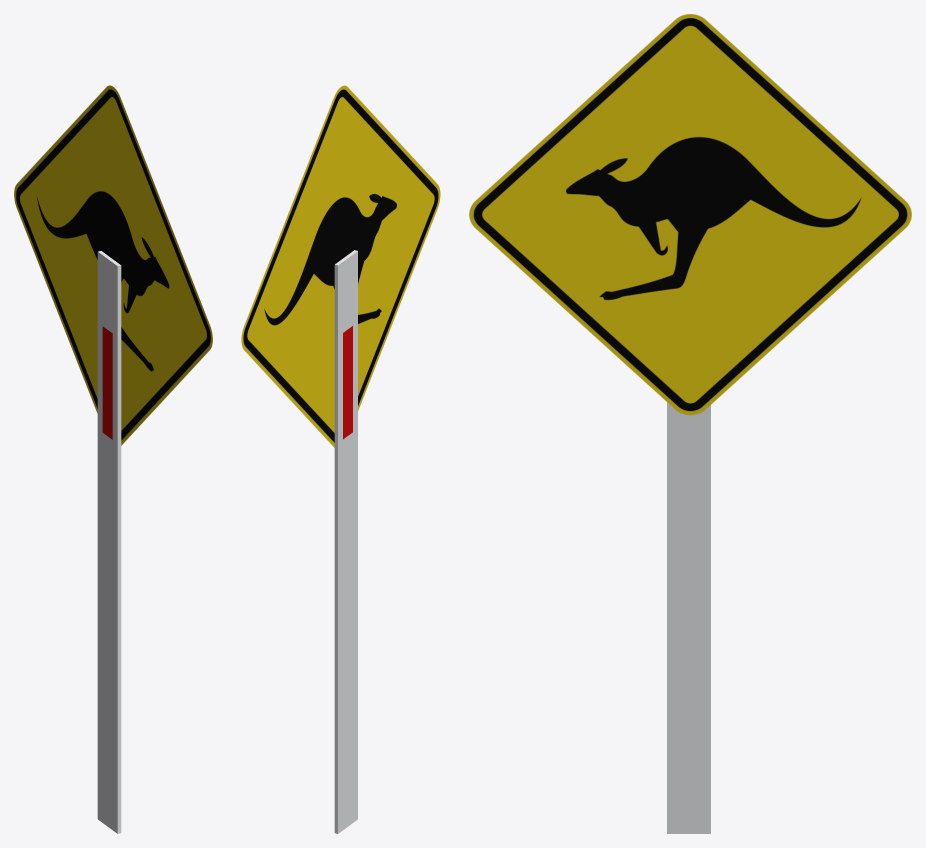
File: newsign.glb
The picture shows the model from 3 angles, left to right: view 1: azimuth 30°, elevation 25°; view 2: azimuth 150°, elevation 25°; view 3: azimuth 270°, elevation 25°; orthographic projection. The views are drawn at different scales.
Parts seen in each view (by area): view 1: Plane.002, Cube.016; view 2: Plane.002, Cube.016; view 3: Plane.002, Cube.016.
Part boxes in pixels (x1=…): Plane.002: x1=14, y1=85, x2=212, y2=445; Cube.016: x1=97, y1=251, x2=121, y2=833; Plane.002: x1=241, y1=85, x2=440, y2=447; Cube.016: x1=334, y1=250, x2=357, y2=833; Plane.002: x1=469, y1=14, x2=911, y2=415; Cube.016: x1=667, y1=402, x2=710, y2=833.
Size of the model in its own units: 0.0373 by 4.09 by 2.
3 materials, 1 textured.
